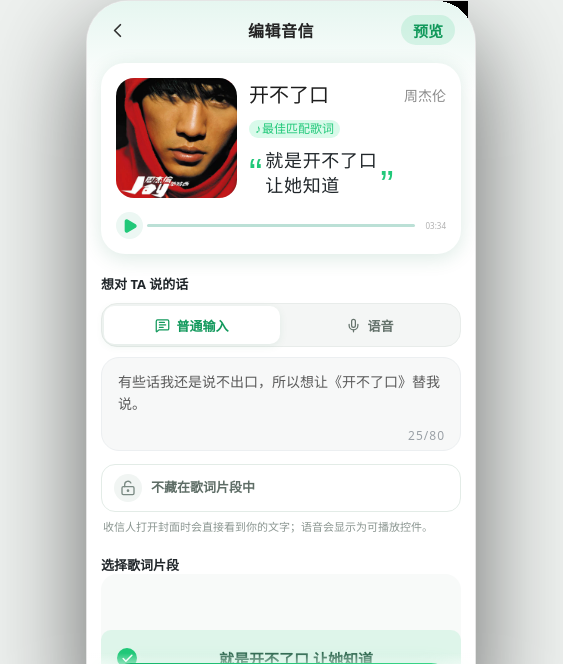
Test: edit page voice recording › lets the left record button overwrite the recorded voice note
Step 1. Click the button "语音" → (370, 325), box [282, 306, 458, 344]
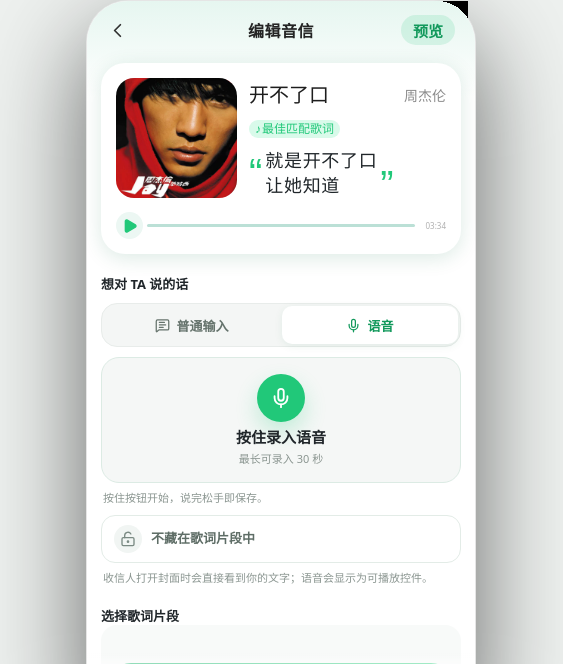
Step 2. Press the mouse on the button labelled "按住录入语音 最长可录入 30 秒" → (281, 420), box [101, 357, 461, 483]
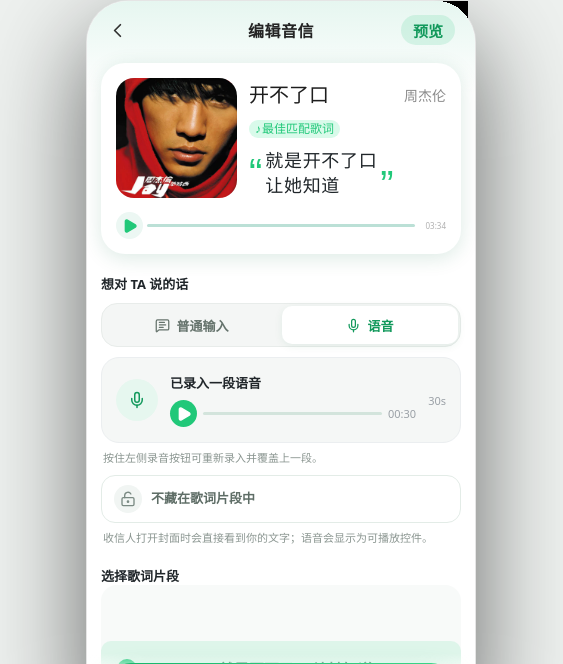
Step 3. Click the button named "播放语音留言" → (184, 414), box [170, 400, 197, 427]
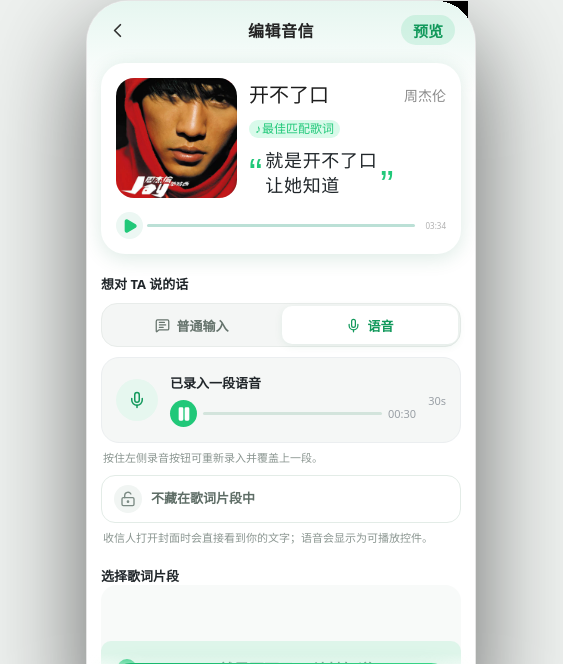
Check: the button named "暂停" is shown, box [170, 400, 197, 427]
Step 4. Press the mouse on the button named "按住重新录入语音" → (137, 400), box [116, 379, 158, 421]
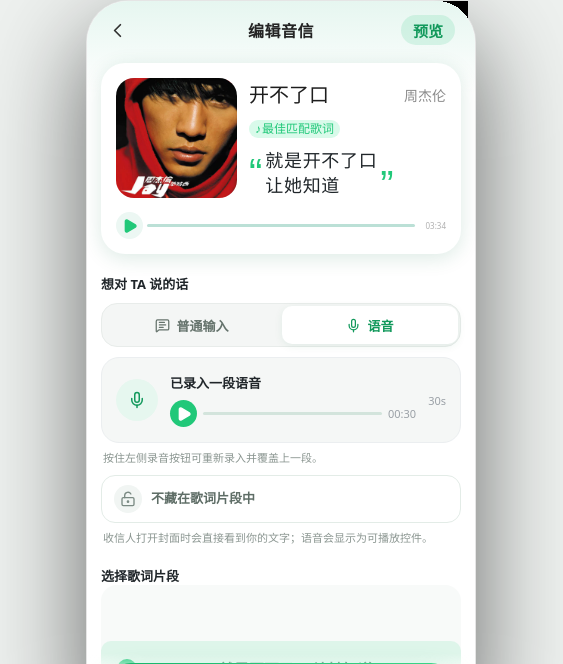
Check: the button named "正在录入语音，松手完成" is shown, box [116, 379, 158, 421]
Check: the text "已录入一段语音" is shown, box [170, 374, 261, 392]
Check: the button named "播放语音留言" is shown, box [170, 400, 197, 427]
